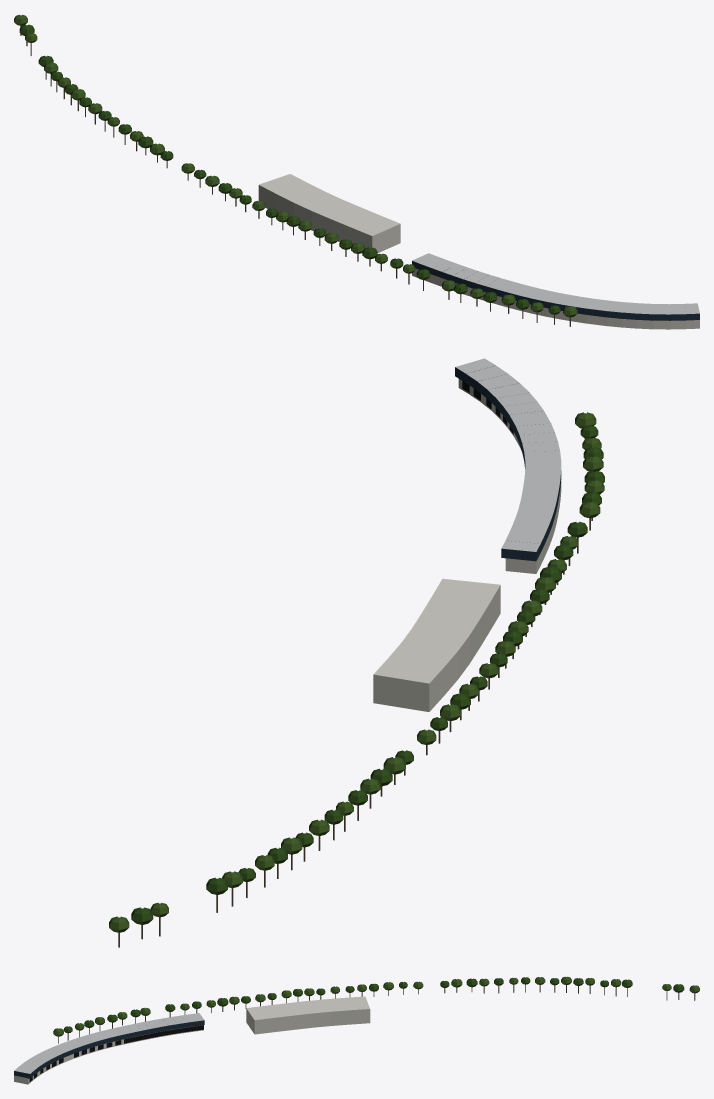
Rendered from pits.glb.
3 views of the same model, one above another, from view 1: azimuth 30°, elevation 25°; view 2: azimuth 150°, elevation 25°; view 3: azimuth 270°, elevation 25° (orthographic). The views are drawn at different scales.
Parts seen in each view (by area): view 1: chunk_0_0; view 2: chunk_0_0; view 3: chunk_0_0.
Boxes of the visible parts, left/top/right/bottom form: chunk_0_0: left=14, top=14, right=699, bottom=329; chunk_0_0: left=109, top=358, right=604, bottom=947; chunk_0_0: left=14, top=976, right=699, bottom=1084.
Bounding box in the file's own units: 148 × 15.16 × 457.
